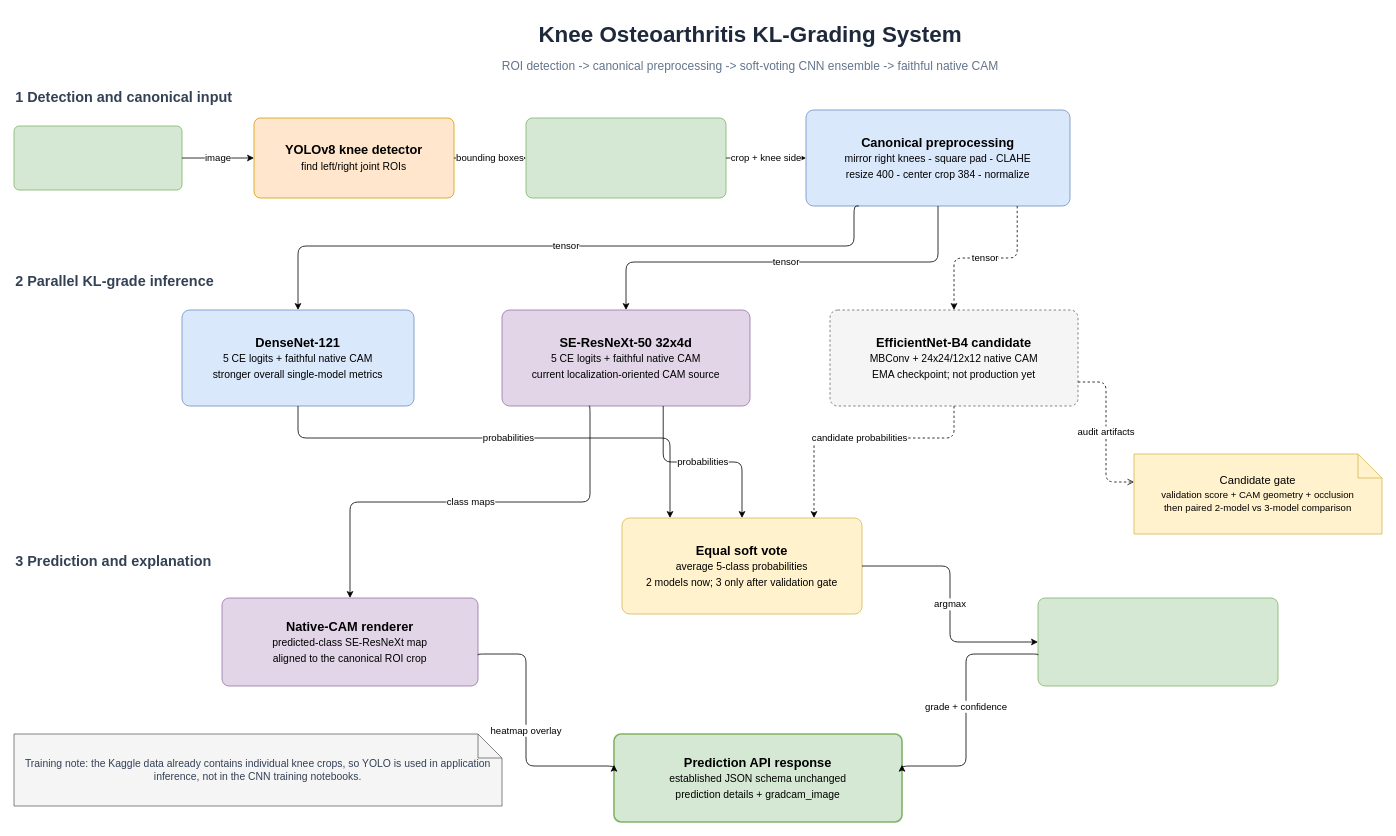
Image size: 1396x836. Some labels were removed from this diagram. Each missing label, with the centre of its shape:
"Bilateral knee X-ray" goes at point 97,157.
"Individual knee crops one prediction per detected knee" goes at point 625,157.
"KL prediction grade 0-4 + confidence five class probabilities" goes at point 1157,641.
